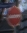No entry: (5, 5, 22, 28)
